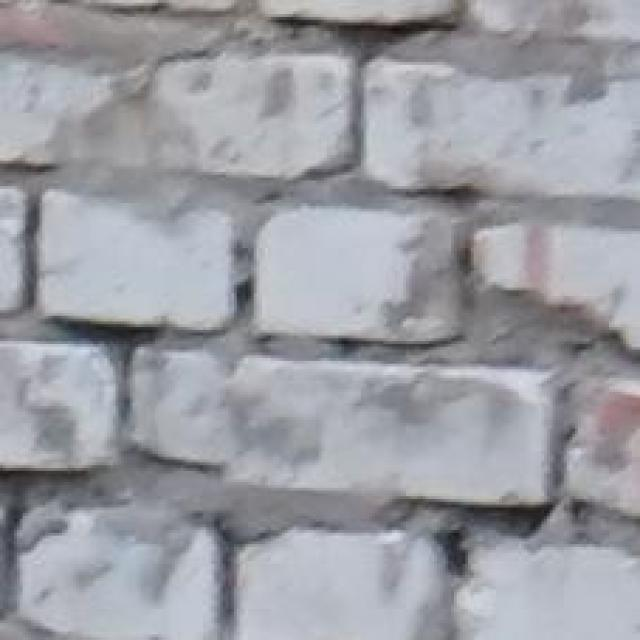Crack: (0, 137, 536, 640)
